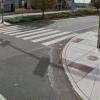Crosswalk: (1, 15, 65, 58)
